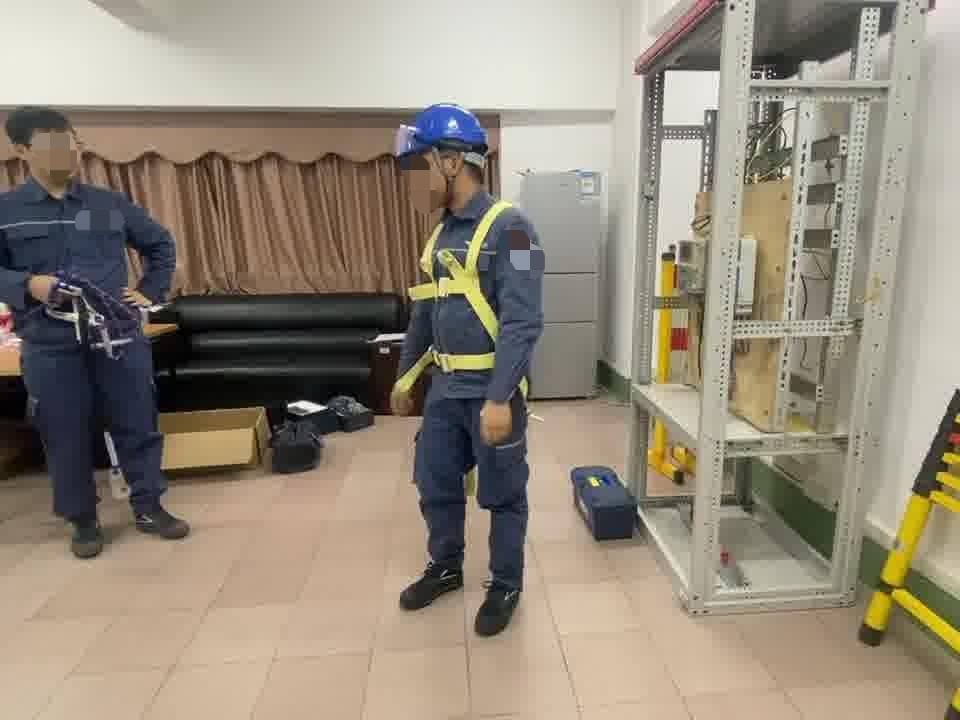halt: (398, 106, 494, 202)
inear: (432, 148, 473, 192)
unhalt: (9, 110, 87, 191)
